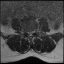CCS_normal: (29, 30, 31, 37)
LFS_normal: (33, 28, 34, 34)
LLS_normal: (31, 29, 33, 36)
RFS_normal: (25, 29, 27, 34)
RLS_normal: (27, 29, 29, 36)
